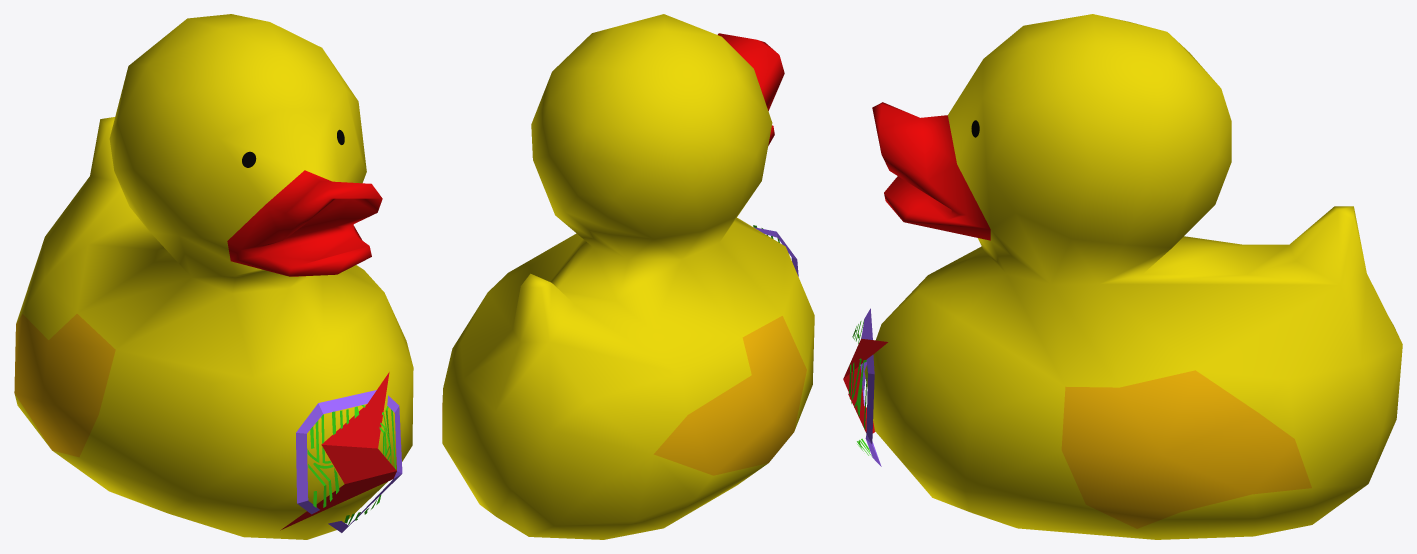
Rendered from Duck_toy.fbx.
3 views of the same model, side by side, from view 1: azimuth 30°, elevation 25°; view 2: azimuth 150°, elevation 25°; view 3: azimuth 270°, elevation 25° (orthographic). The views are drawn at different scales.
Parts seen in each view (by area): view 1: Dusk, Logo; view 2: Dusk; view 3: Dusk, Logo.
Boxes of the visible parts, box(x1,y1,x2,y2) form: Dusk: box(14, 14, 413, 539); Logo: box(280, 372, 402, 532); Dusk: box(442, 14, 814, 539); Dusk: box(864, 14, 1402, 539); Logo: box(843, 308, 887, 466).
Size of the model in its own units: 21.56 by 28.6 by 31.2.
